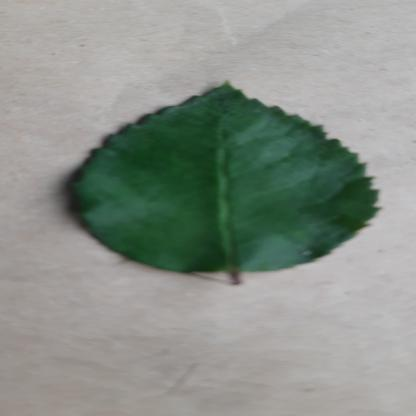normal: (63, 81, 385, 277)
